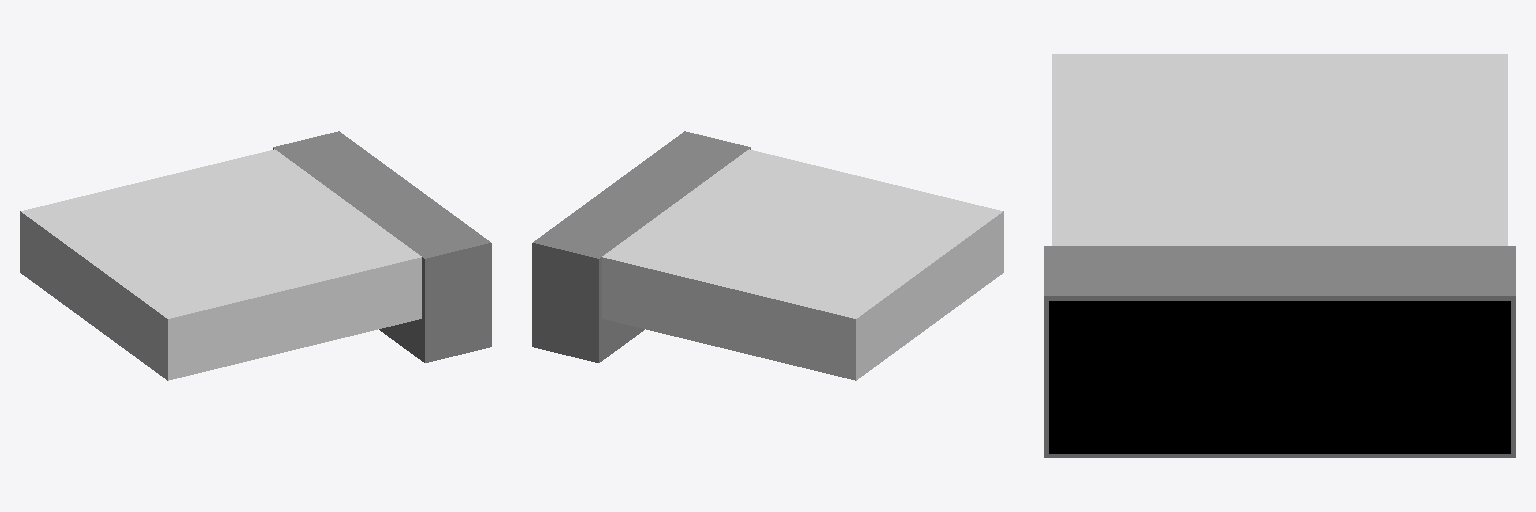
robot.urdf — azure-kinect:
<?xml version="1.0" ?>
<!-- =================================================================================== -->
<!-- |    This document was autogenerated by xacro from azure_kinect.urdf.xacro        | -->
<!-- |    EDITING THIS FILE BY HAND IS NOT RECOMMENDED                                 | -->
<!-- =================================================================================== -->
<!-- 
 Copyright (c) Microsoft Corporation. All rights reserved.
 Licensed under the MIT License.
 -->
<robot name="azure-kinect">
  <material name="black">
    <color rgba="0. 0. 0. 1"/>
  </material>
  <material name="dark_grey">
    <color rgba="0.1 0.1 0.1 1"/>
  </material>
  <material name="grey">
    <color rgba="0.6 0.6 0.6 1"/>
  </material>
  <material name="white">
    <color rgba="0.9 0.9 0.9 1"/>
  </material>
  <link name="camera_body">
    <visual>
      <origin xyz="0. 0. 0."/>
      <geometry>
        <box size="0.0994 0.0996 0.023"/>
      </geometry>
      <material name="white"/>
    </visual>
  </link>
  <link name="camera_base">
    <visual>
      <origin xyz="-0.013 0. 0."/>
      <geometry>
        <box size="0.026 0.103 0.039"/>
      </geometry>
      <material name="grey"/>
    </visual>
  </link>
  <link name="camera_visor">
    <visual>
      <origin xyz="-0.0128 0. 0."/>
      <geometry>
        <box size="0.026 0.101 0.037"/>
      </geometry>
      <material name="black"/>
    </visual>
  </link>
  <joint name="camera_base_to_body" type="fixed">
    <parent link="camera_base"/>
    <child link="camera_body"/>
    <origin rpy="0. 0. 0." xyz="-0.0757 0. 0.008"/>
  </joint>
  <joint name="camera_base_to_visor" type="fixed">
    <parent link="camera_base"/>
    <child link="camera_visor"/>
    <origin rpy="0. 0. 0." xyz="0. 0. 0."/>
  </joint>
</robot>

--- What the picture shows (computed from the rendered views, not written in the file) ---
Views: 3 orthographic renders of the robot side by side, from view 1: azimuth 30°, elevation 25°; view 2: azimuth 150°, elevation 25°; view 3: azimuth 270°, elevation 25°.
Robot: azure-kinect — 3 links, 2 joints (2 fixed); root link camera_base; default pose: all joints at 0.
Visible links, largest first — view 1: camera_body, camera_base; view 2: camera_body, camera_base; view 3: camera_body, camera_visor, camera_base.
Link boxes in pixels (<box>): camera_body: <box>20,149,421,380</box>; camera_base: <box>273,131,491,362</box>; camera_body: <box>602,149,1003,380</box>; camera_base: <box>532,131,750,362</box>; camera_body: <box>1052,54,1507,245</box>; camera_visor: <box>1049,301,1510,453</box>; camera_base: <box>1044,246,1515,457</box>.
Size in the robot's own frame: 0.1256 by 0.103 by 0.039 metres.
Geometry: primitives only (box / cylinder / sphere), no mesh files.
